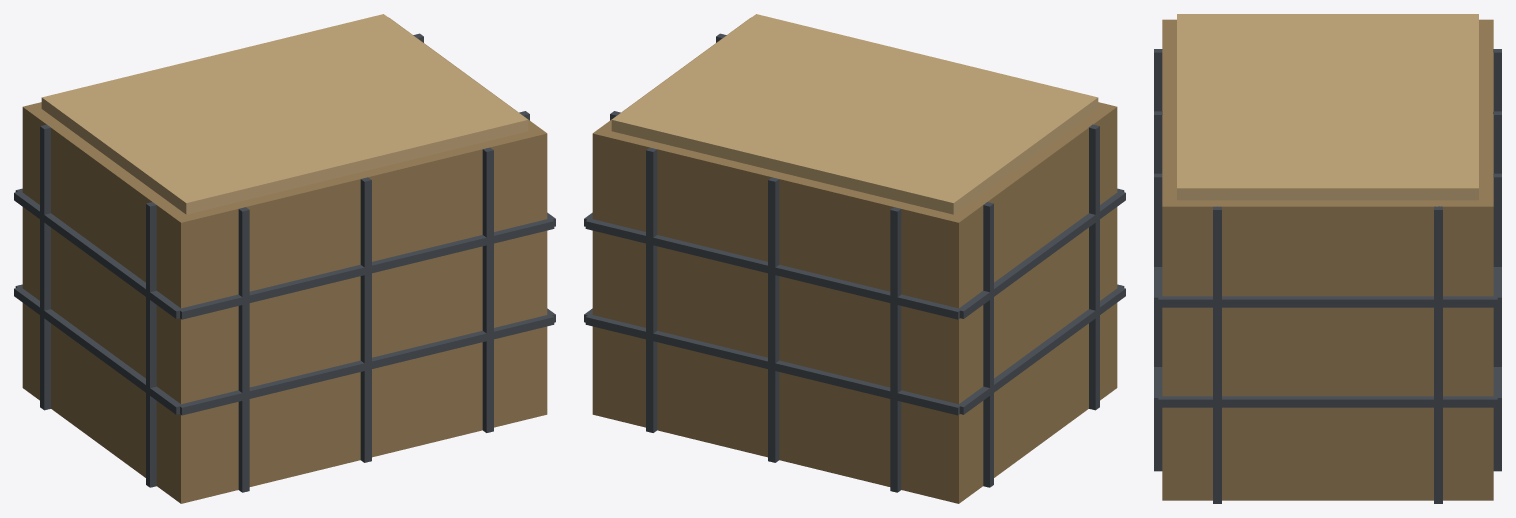
Rendered from env_hesco.fbx.
3 views of the same model, side by side, from view 1: azimuth 30°, elevation 25°; view 2: azimuth 150°, elevation 25°; view 3: azimuth 270°, elevation 25° (orthographic). The views are drawn at different scales.
Visible parts, largest first — view 1: env_hesco; view 2: env_hesco; view 3: env_hesco.
Part boxes in pixels (box(x1,y1,x2,y2)): env_hesco: box(14, 14, 555, 503); env_hesco: box(584, 14, 1125, 503); env_hesco: box(1154, 14, 1501, 503).
Bounding box in the file's own units: 622 × 458 × 472.
